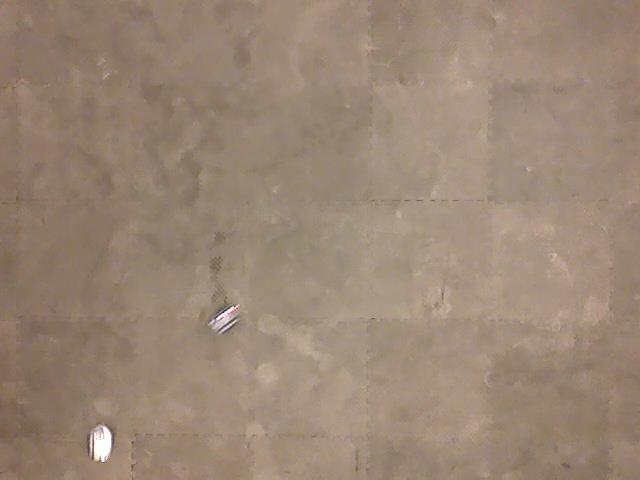Agent: (205, 302, 245, 336), (86, 421, 115, 464)
